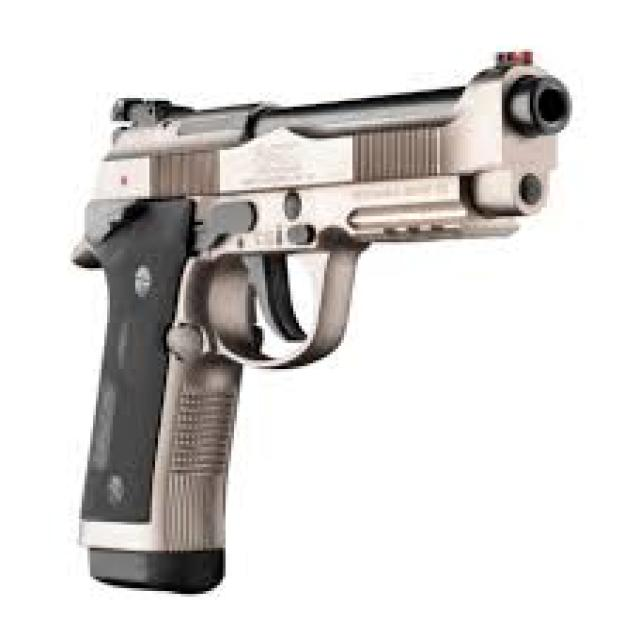pistol: (69, 42, 571, 597)
